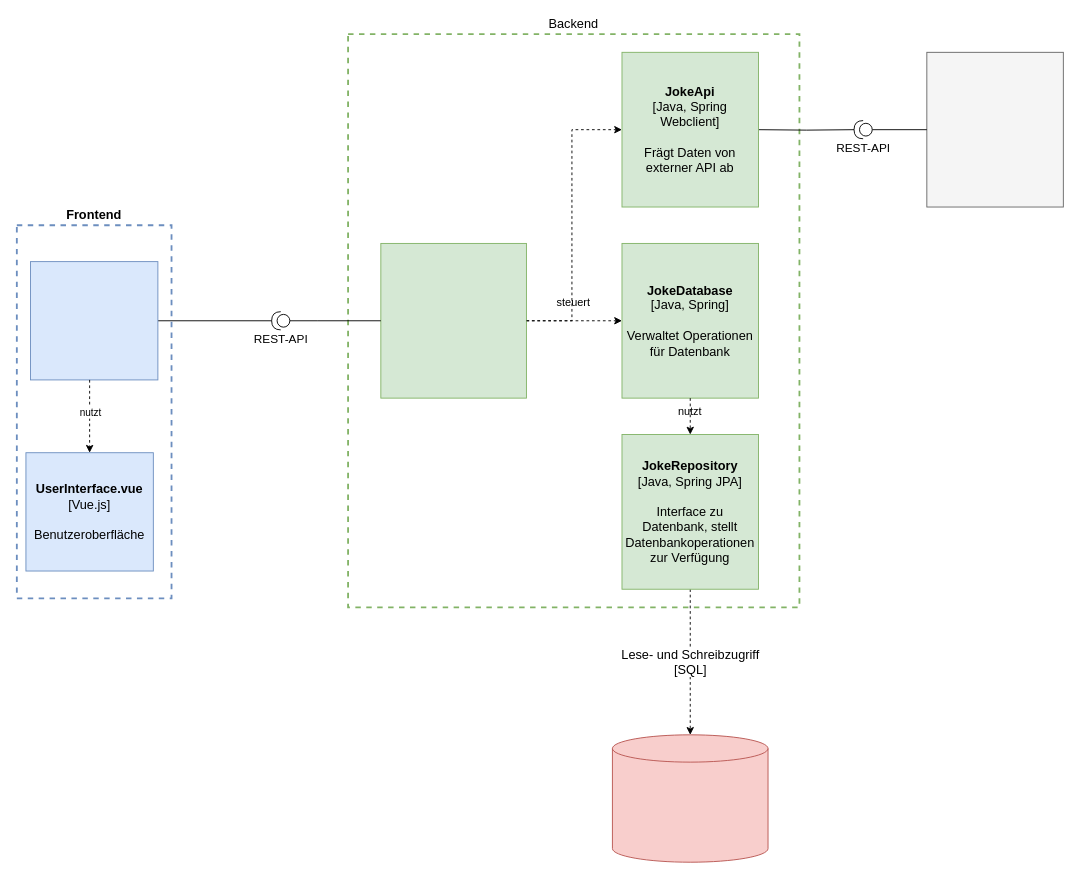
Some shapes in this 1079 by 878 pixel diagram are drawn without their labels. The centre of each missing label's shape, as x and y in pixels:
App.vue [Vue.js] Implementiert alle Abhängigkeiten für Browserbasierte UI: (x=94, y=320)
Controller [Java REST-Controller] empfängt http-Requests von Frontend: (x=453, y=320)
Datenbank [h2 in-memory] Speichert Witze, welche von JokeApi abgerufen werden: (x=690, y=798)
Externe REST-API Stellt Witze zur Verfügung: (x=994, y=129)
